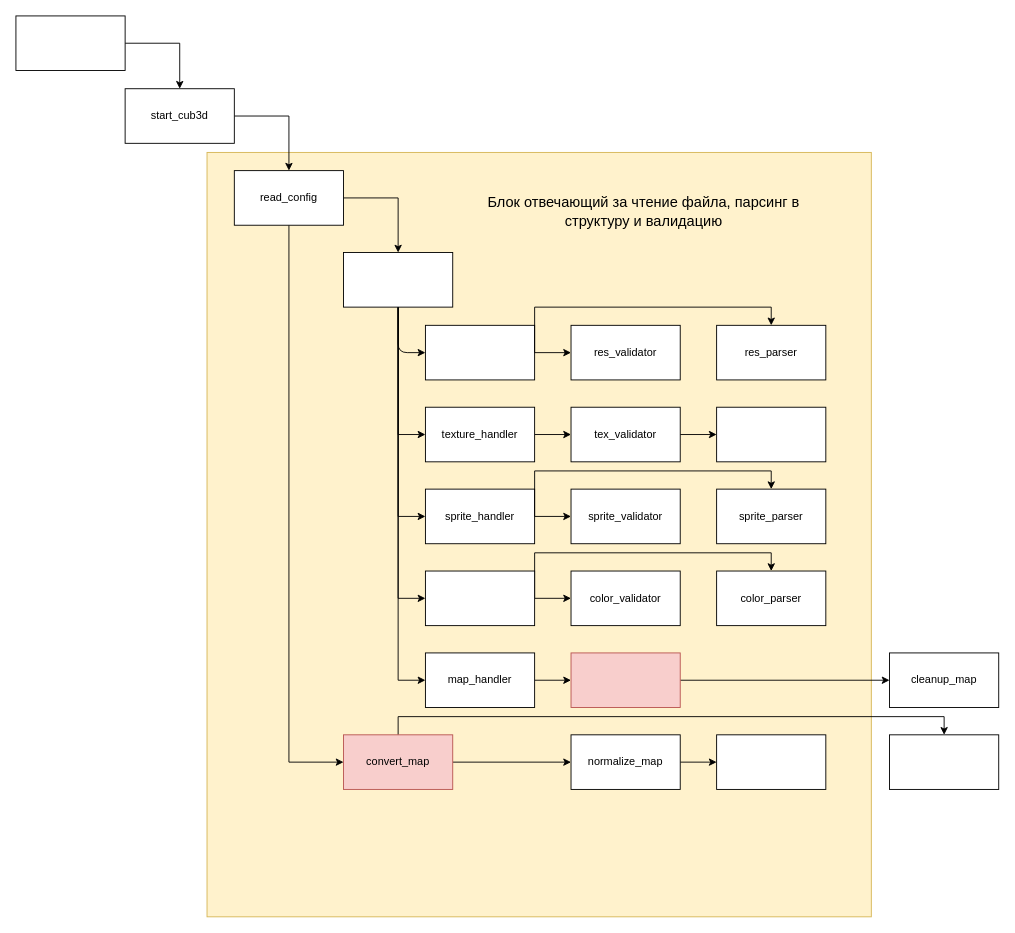
The diagram is 1015 pixels wide and 933 high, and some of its shapes have lost their labels. Each missing label, with the centre of its shape:
"cleanup_flat_map" belongs at (944,761).
"color_handler" belongs at (480,598).
"line_handler" belongs at (398,279).
"main" belongs at (70,43).
"map_parser" belongs at (625,680).
"map_validator" belongs at (771,761).
"res_handler" belongs at (480,352).
"tex_parser" belongs at (771,434).
